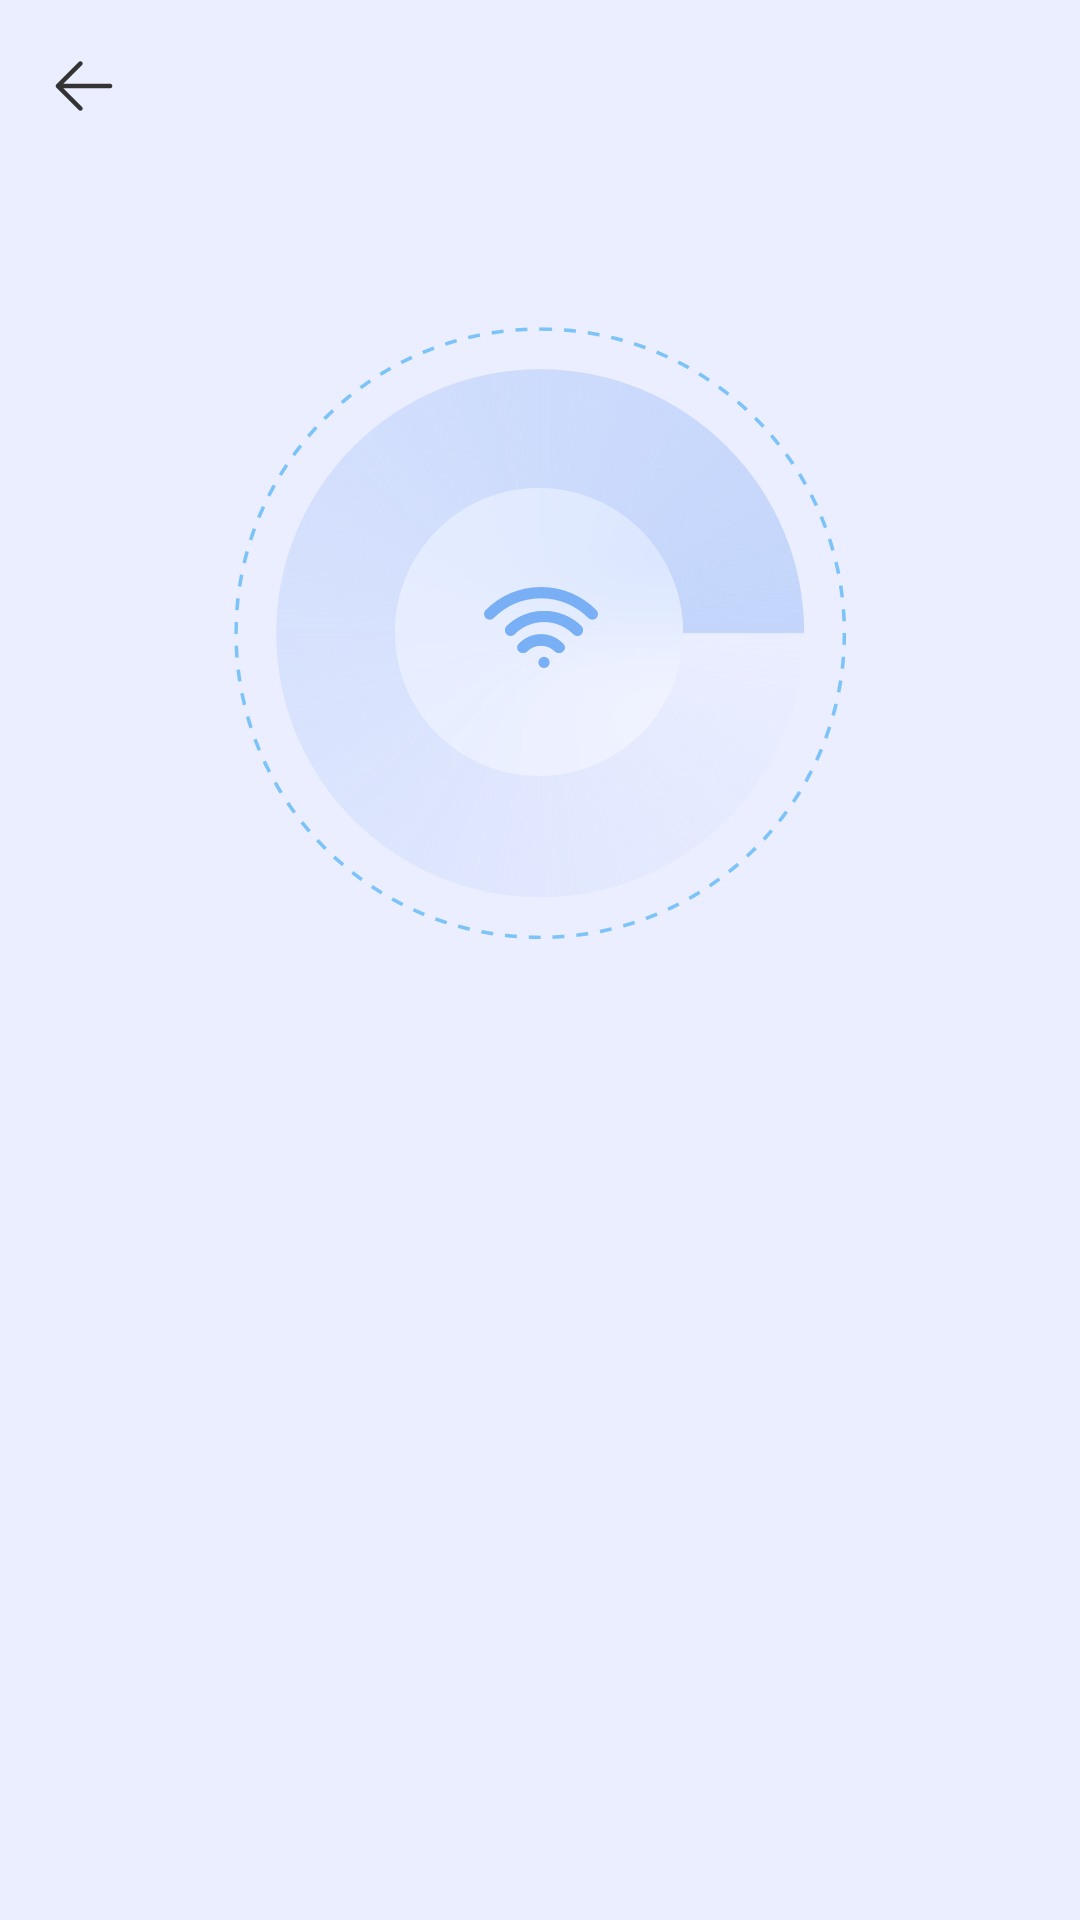

Named icons in this screenshot (1080px x 1920px) and their centers, (x=x, y=y):
back: (x=84, y=86)
